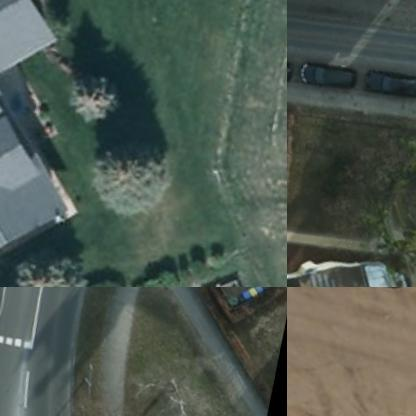car: (294, 52, 352, 87), (362, 57, 415, 93)
